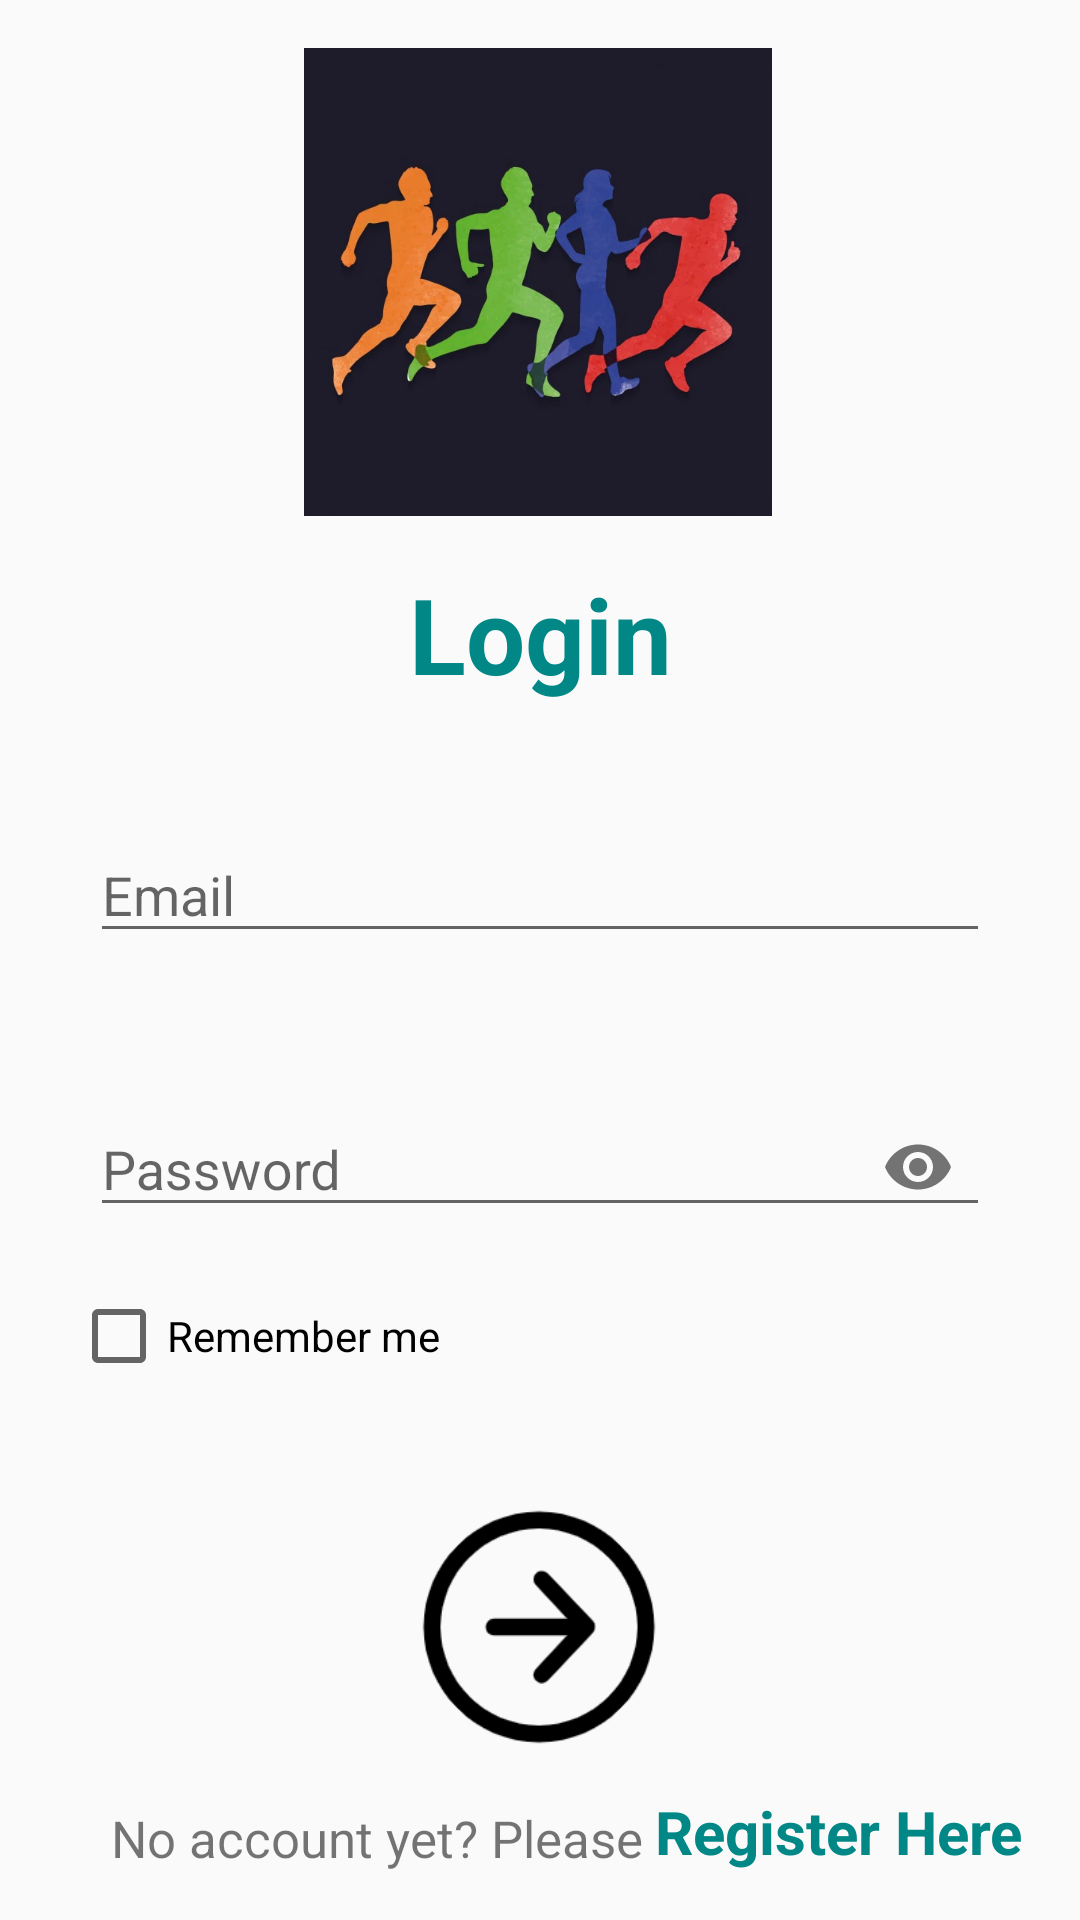

Icons on this 1080px x 1920px Android screen, each with its box as (x1, y1, x2, y2):
arrow right circle: (423, 1511, 655, 1743)
